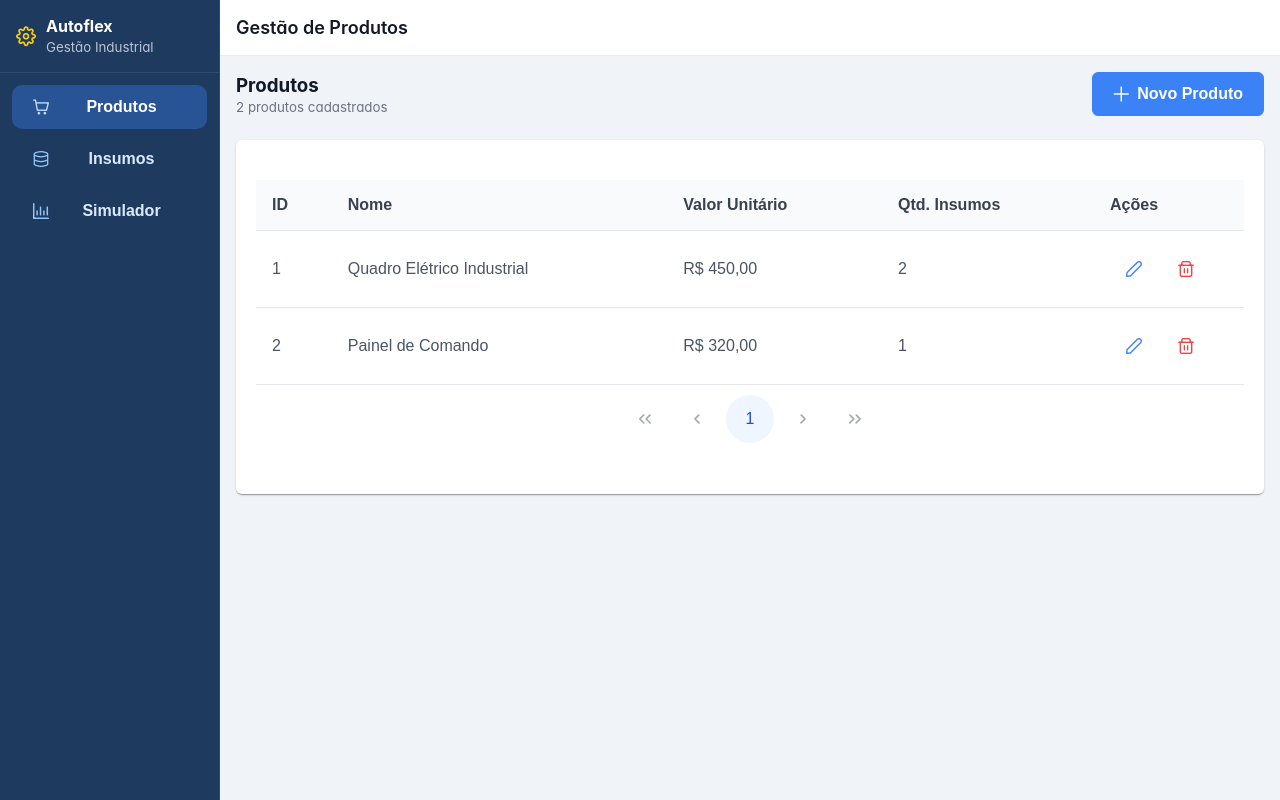
Test: Products › opens and closes create modal
The width and height of the screenshot is (1280, 800).
Click the button with test id "add-product-button" at (1178, 94), box [1092,72,1264,116]
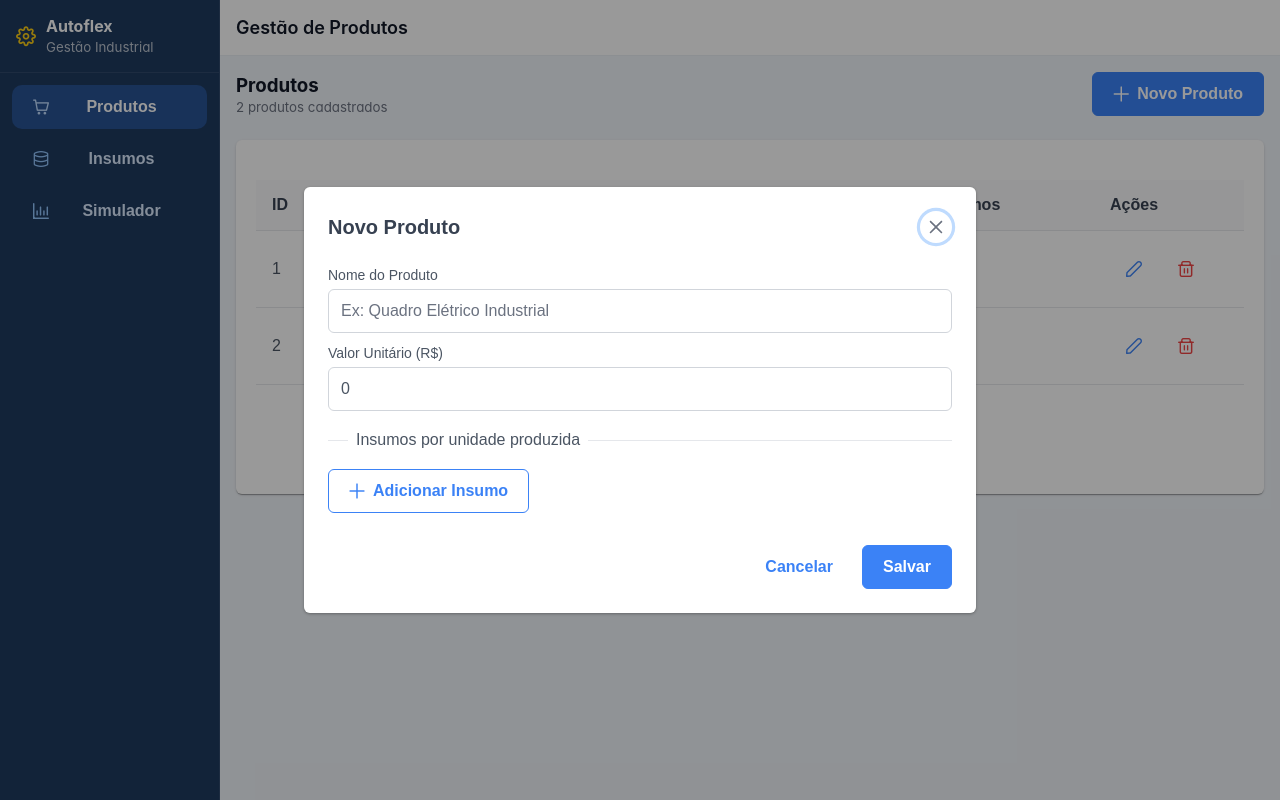
Result: the dialog shows "Novo Produto" at [304,187,976,613]
Click the button with test id "modal-cancel-button" at (799, 567), box [744,545,854,589]
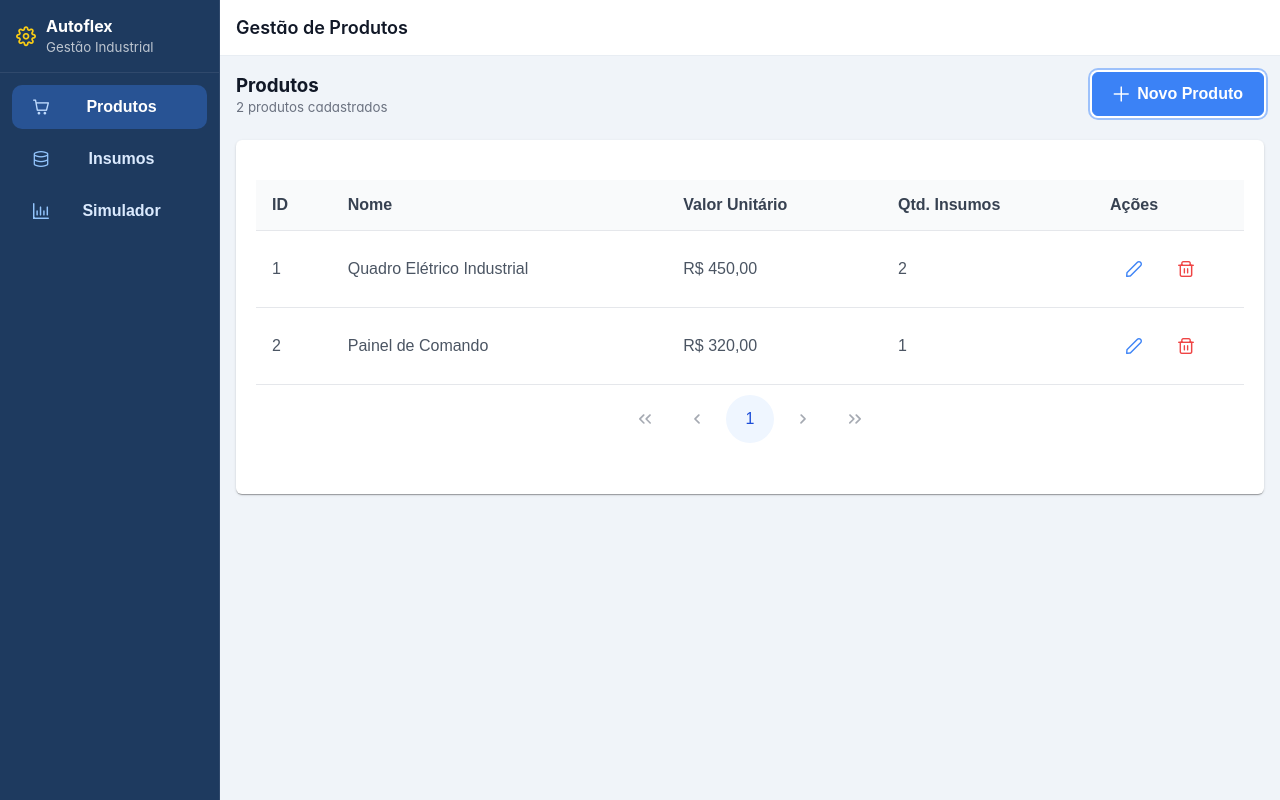
Result: the dialog is gone
